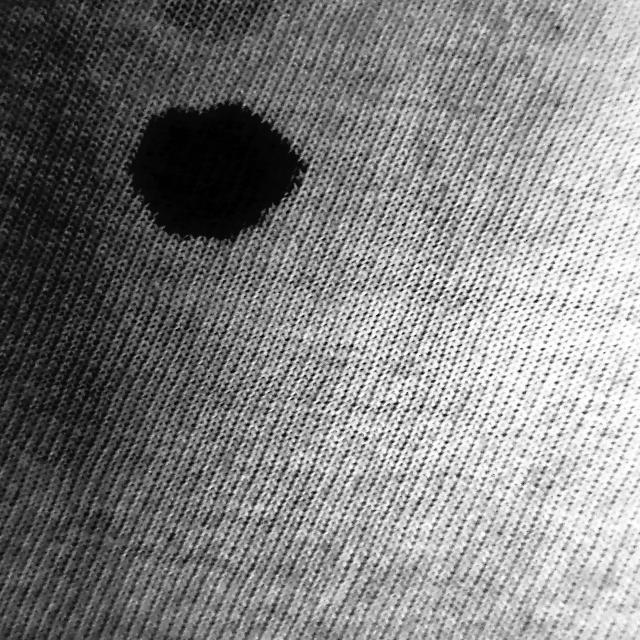Color_defect: (128, 101, 314, 246)
